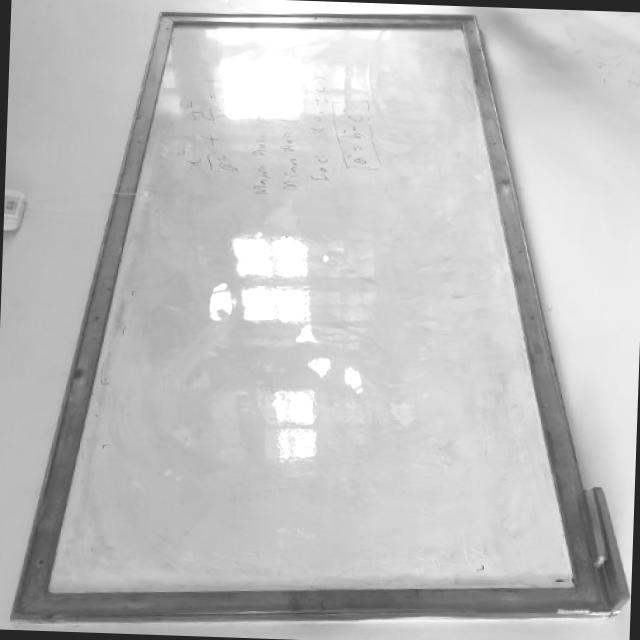White-board: (18, 13, 592, 607)
